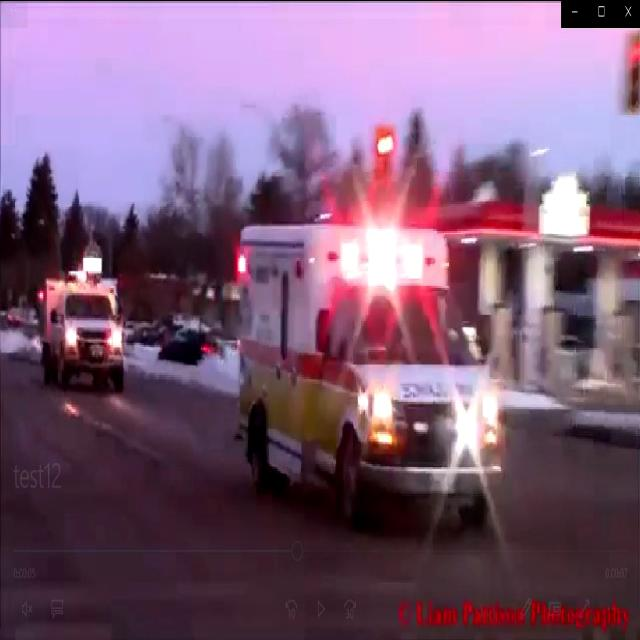emergency: (228, 204, 513, 547), (30, 264, 134, 402)
